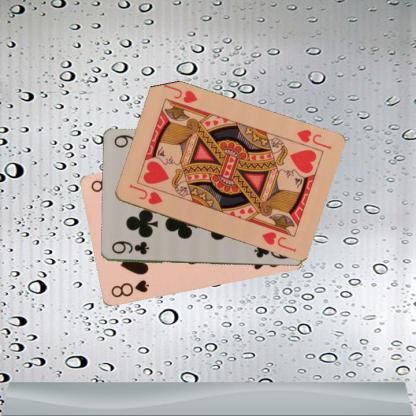8s: (108, 278, 150, 300)
9c: (108, 238, 150, 256)
Jh: (293, 127, 333, 150), (126, 182, 164, 206)
